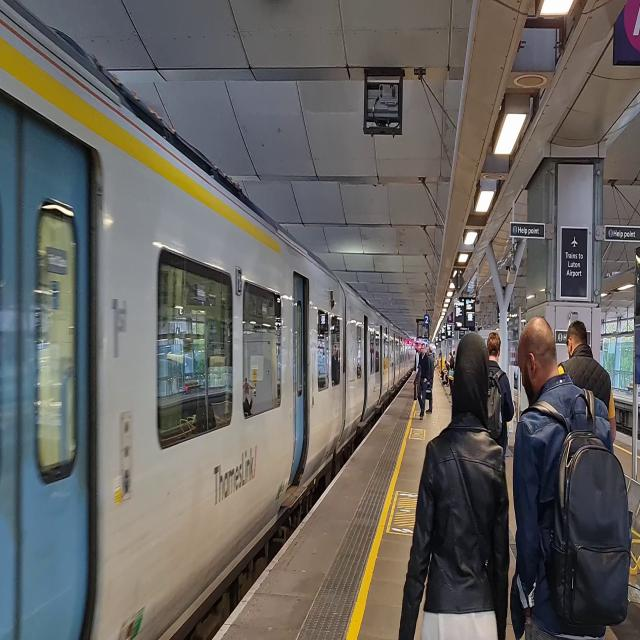person: (510, 315, 632, 640), (399, 333, 510, 640), (487, 332, 515, 449), (413, 343, 427, 420), (426, 346, 434, 416), (446, 352, 455, 396), (414, 342, 419, 373)
